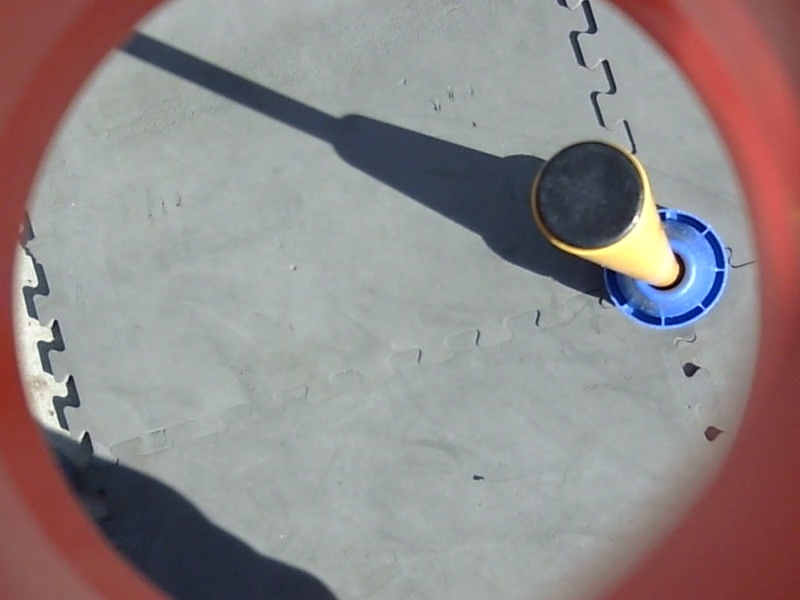tip: (527, 134, 652, 255)
